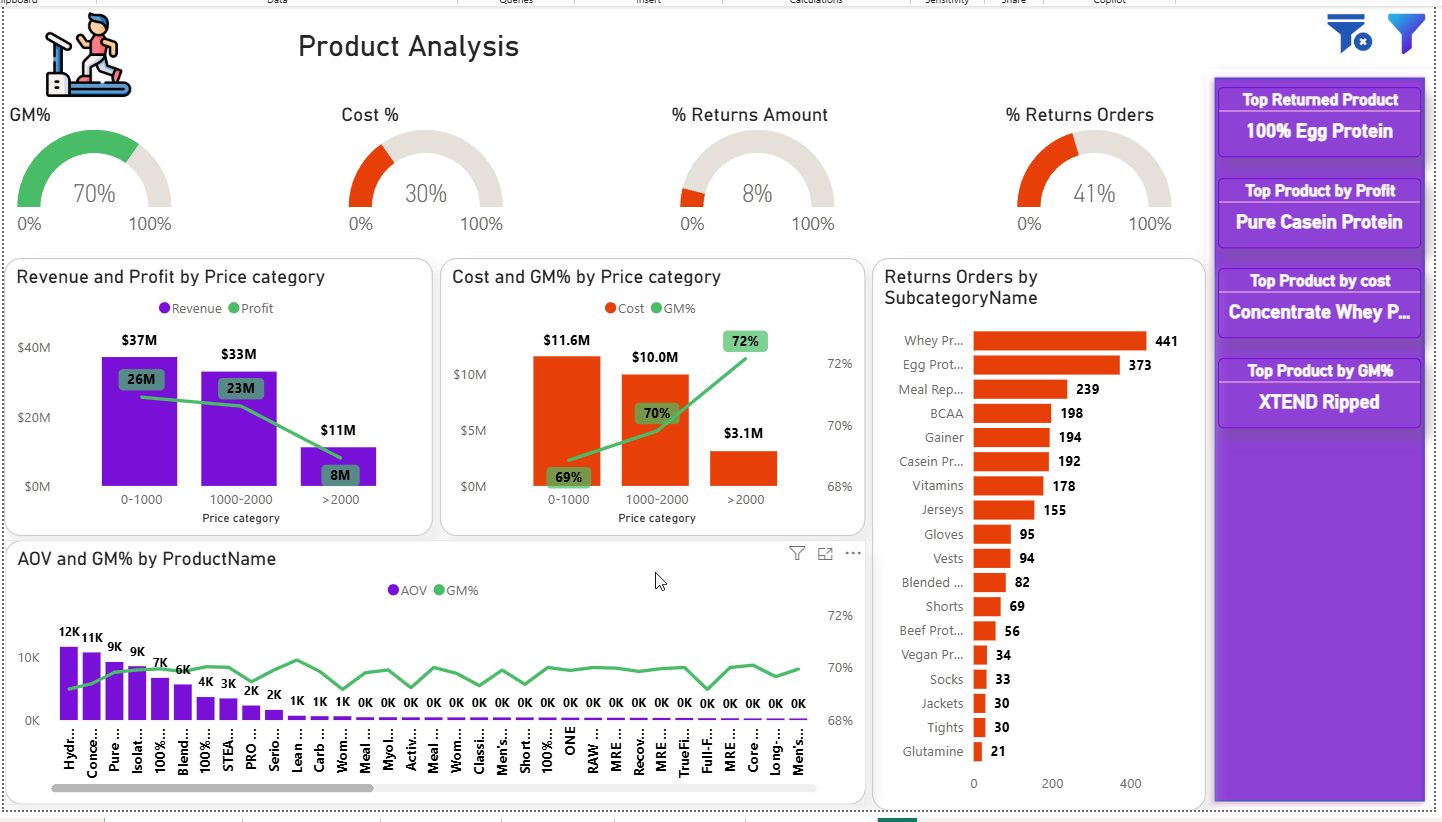

Layout of this report page (visuals, bound fields, positions):
{"tool":"powerbi","page":{"name":"Product Analysis","canvas":[1280,720],"ordinal":4},"visuals":[{"type":"shape","box":[1076.4,56.4,203.6,663.6],"z":0},{"type":"gauge","fields":{"Y":["Revenue.08 GM%"]},"box":[0,87.3,161.8,129.1],"z":1000},{"type":"gauge","fields":{"Y":["Revenue.90 % Returns Orders"]},"box":[891.8,87.3,169.1,129.1],"z":2000},{"type":"gauge","fields":{"Y":["Revenue.88 % Returns Amount"]},"box":[593,87.3,163.6,129.1],"z":3000},{"type":"gauge","fields":{"Y":["Revenue.106 Cost %"]},"box":[297,87.3,160.9,129.1],"z":4000},{"type":"lineClusteredColumnComboChart","fields":{"Category":["SalesDetails.Price category"],"Y":["Revenue.01 Revenue"],"Y2":["Revenue.05 Profit"]},"box":[0,225.5,383.6,249.1],"z":5000},{"type":"lineClusteredColumnComboChart","fields":{"Category":["SalesDetails.Price category"],"Y":["Revenue.02 cost"],"Y2":["Revenue.08 GM%"]},"box":[390,225.5,380.9,249.1],"z":6000},{"type":"image","box":[0,0,150,87.3],"z":7000},{"type":"clusteredBarChart","fields":{"Category":["Product.SubcategoryName"],"Y":["Revenue.86 Returns Orders"]},"box":[777.3,225.5,299.1,494.5],"z":8000},{"type":"lineClusteredColumnComboChart","fields":{"Y":["Revenue.81 AOV"],"Category":["Product.ProductName"],"Y2":["Revenue.08 GM%"]},"box":[0.9,478.2,770.9,237.3],"z":9000},{"type":"image","box":[1232,0,48,50],"z":10000},{"type":"image","box":[1180.5,0,50,50],"z":11000},{"type":"card","title":"Top Returned Product","fields":{"Values":["Min(Product.ProductName)"]},"box":[1087.2,72.7,181.8,62.7],"z":12000},{"type":"card","title":"Top Product by Profit","fields":{"Values":["Min(Product.ProductName)"]},"box":[1087.2,153.6,181.8,62.7],"z":13000},{"type":"card","title":"Top Product by cost","fields":{"Values":["Min(Product.ProductName)"]},"box":[1087.2,234.6,181.8,62.7],"z":14000},{"type":"card","title":"Top Product by GM%","fields":{"Values":["Min(Product.ProductName)"]},"box":[1087.2,315.5,181.8,62.7],"z":15000},{"type":"card","fields":{"Values":["Revenue.Product Analysis Title"]},"box":[152,0,427,69],"z":20000}]}

Visuals, with their boxes on the page's 1280x720 design canvas (x1, y1, x2, y2). These are canvas units, not pixel positions in the 1442x822 screenshot, which may show the page scaled, cropped or inside an application window:
shape: <box>1076,56,1280,720</box>
gauge - Revenue.08 GM%: <box>0,87,162,216</box>
gauge - Revenue.90 % Returns Orders: <box>892,87,1061,216</box>
gauge - Revenue.88 % Returns Amount: <box>593,87,757,216</box>
gauge - Revenue.106 Cost %: <box>297,87,458,216</box>
lineClusteredColumnComboChart - SalesDetails.Price category x Revenue.01 Revenue: <box>0,226,384,475</box>
lineClusteredColumnComboChart - SalesDetails.Price category x Revenue.02 cost: <box>390,226,771,475</box>
image: <box>0,0,150,87</box>
clusteredBarChart - Product.SubcategoryName x Revenue.86 Returns Orders: <box>777,226,1076,720</box>
lineClusteredColumnComboChart - Revenue.81 AOV x Product.ProductName: <box>1,478,772,716</box>
image: <box>1232,0,1280,50</box>
image: <box>1180,0,1230,50</box>
"Top Returned Product" card: <box>1087,73,1269,135</box>
"Top Product by Profit" card: <box>1087,154,1269,216</box>
"Top Product by cost" card: <box>1087,235,1269,297</box>
"Top Product by GM%" card: <box>1087,316,1269,378</box>
card - Revenue.Product Analysis Title: <box>152,0,579,69</box>
